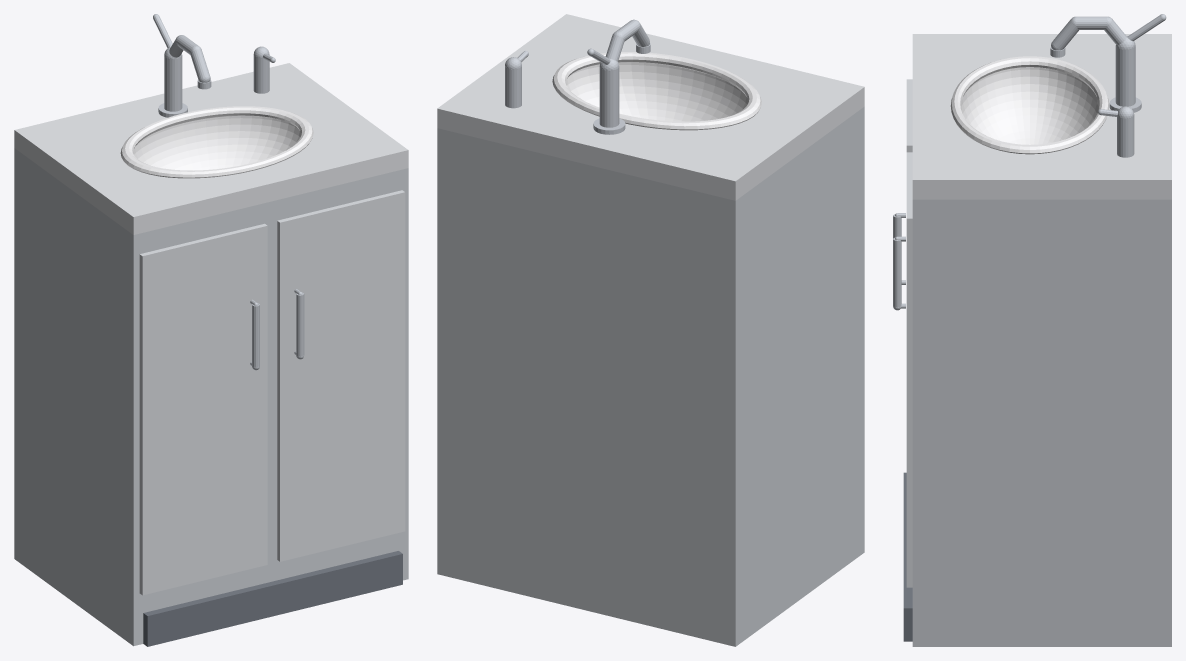
File: Lavabo.glb
3 views of the same model, side by side, from view 1: azimuth 30°, elevation 25°; view 2: azimuth 150°, elevation 25°; view 3: azimuth 270°, elevation 25° (orthographic). The views are drawn at different scales.
Visible parts, largest first — view 1: geometry_0; view 2: geometry_0; view 3: geometry_0.
Boxes of the visible parts, bbox=[...] form: geometry_0: bbox=[14, 14, 408, 646]; geometry_0: bbox=[437, 14, 864, 646]; geometry_0: bbox=[893, 14, 1171, 646].
Size of the model in its own units: 0.56 by 1 by 0.452.
1 material, 1 textured.
